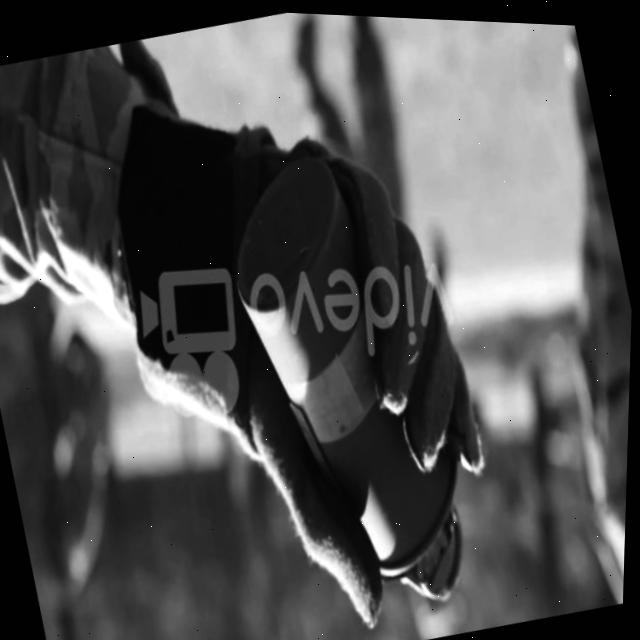grenade: (165, 116, 536, 640)
